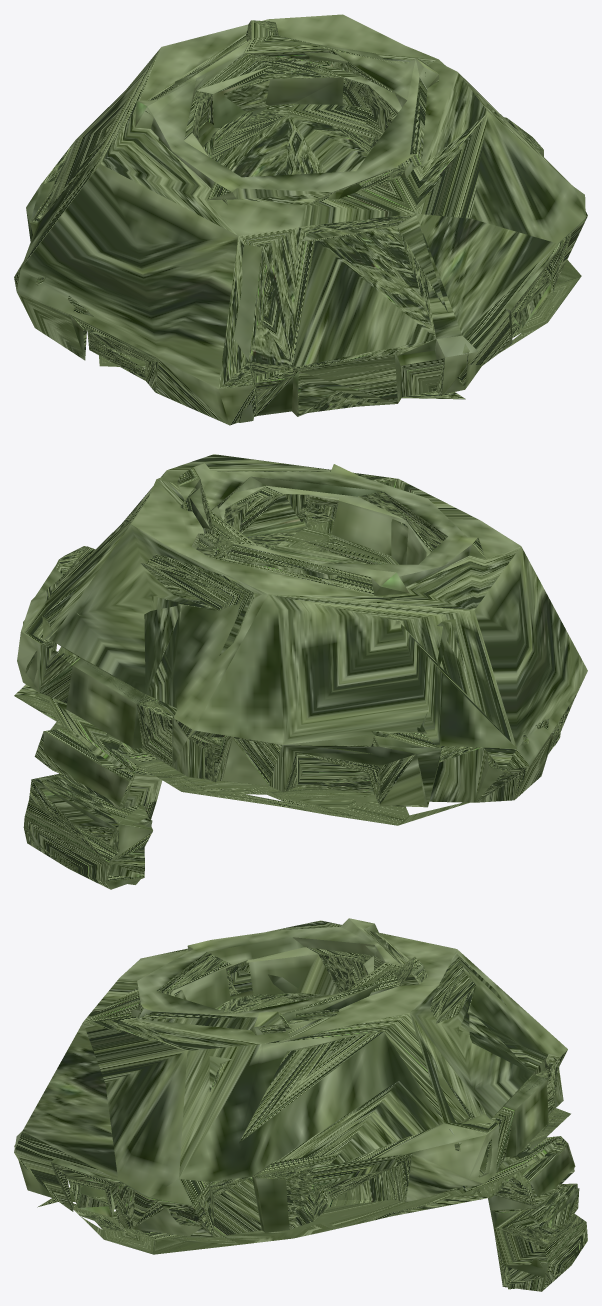
3 views of the same model, one above another, from view 1: azimuth 30°, elevation 25°; view 2: azimuth 150°, elevation 25°; view 3: azimuth 270°, elevation 25° (orthographic). The views are drawn at different scales.
Size of the model in its own units: 0.8457 by 0.486 by 0.8763.
1 material, 1 textured.
